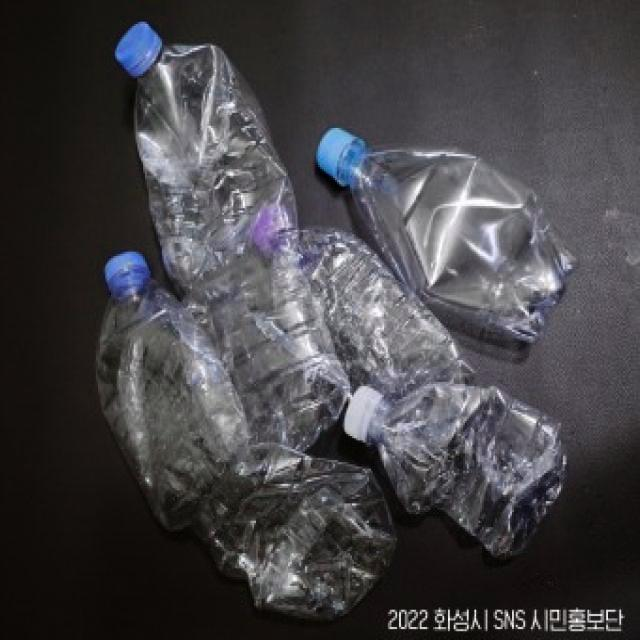bottle: (96, 254, 397, 617), (115, 24, 351, 456), (316, 128, 576, 347), (247, 200, 479, 400), (345, 382, 569, 557)
